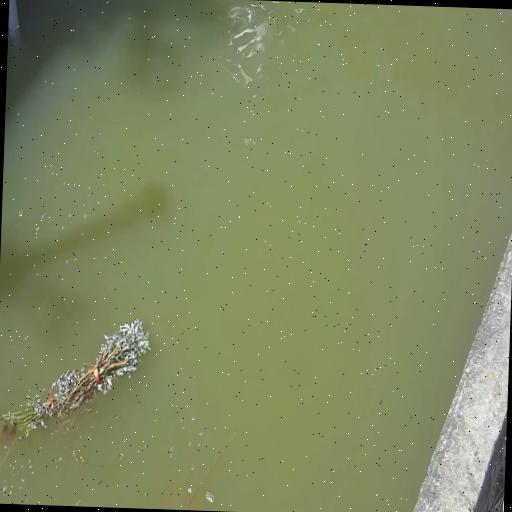twig: (0, 317, 149, 439)
